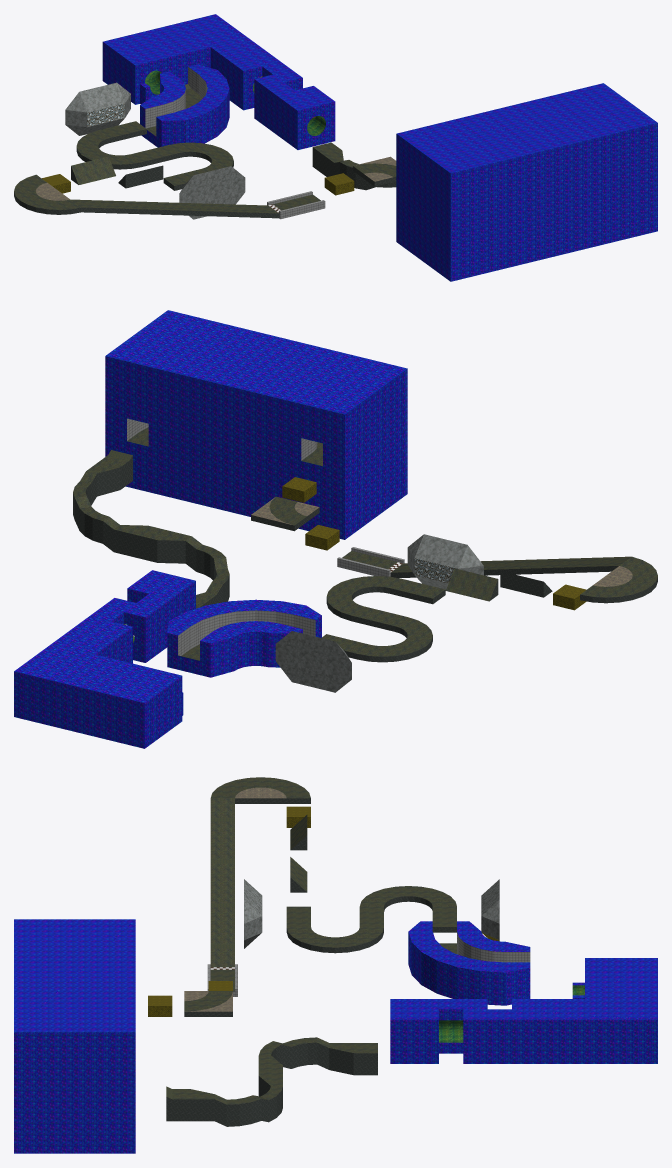
The picture shows the model from 3 angles, top to bottom: view 1: azimuth 30°, elevation 25°; view 2: azimuth 150°, elevation 25°; view 3: azimuth 270°, elevation 25°; orthographic projection. The views are drawn at different scales.
Parts seen in each view (by area): view 1: course-SKP--hideout_wall_external, course-SKP--hideout_road, course-SKP--hideout_wall_platform, course-SKP--hideout_teleport, course-SKP--hideout_wall_internal, course-SKP--hideout_slowdown, course-SKP--hideout_road_tube, course-SKP--hideout_screen, course-SKP--hideout_danger, course-SKP--hideout_boostjump; view 2: course-SKP--hideout_wall_external, course-SKP--hideout_road, course-SKP--hideout_wall_platform, course-SKP--hideout_teleport, course-SKP--hideout_wall_internal, course-SKP--hideout_danger, course-SKP--hideout_slowdown, course-SKP--hideout_boostjump, course-SKP--hideout_screen; view 3: course-SKP--hideout_wall_external, course-SKP--hideout_road, course-SKP--hideout_wall_platform, course-SKP--hideout_teleport, course-SKP--hideout_wall_internal, course-SKP--hideout_slowdown, course-SKP--hideout_boostjump, course-SKP--hideout_road_tube, course-SKP--hideout_boost.
Boxes of the visible parts, x1=… form: course-SKP--hideout_wall_external: x1=102, y1=14, x2=657, y2=281; course-SKP--hideout_road: x1=14, y1=88, x2=396, y2=213; course-SKP--hideout_wall_platform: x1=14, y1=129, x2=396, y2=218; course-SKP--hideout_teleport: x1=65, y1=82, x2=245, y2=219; course-SKP--hideout_wall_internal: x1=145, y1=67, x2=325, y2=219; course-SKP--hideout_slowdown: x1=36, y1=156, x2=396, y2=200; course-SKP--hideout_road_tube: x1=145, y1=70, x2=325, y2=135; course-SKP--hideout_screen: x1=87, y1=103, x2=124, y2=127; course-SKP--hideout_danger: x1=53, y1=76, x2=354, y2=195; course-SKP--hideout_boostjump: x1=42, y1=173, x2=353, y2=186; course-SKP--hideout_wall_external: x1=14, y1=310, x2=407, y2=748; course-SKP--hideout_road: x1=73, y1=427, x2=657, y2=660; course-SKP--hideout_wall_platform: x1=73, y1=456, x2=657, y2=662; course-SKP--hideout_teleport: x1=275, y1=534, x2=483, y2=692; course-SKP--hideout_wall_internal: x1=127, y1=418, x2=404, y2=655; course-SKP--hideout_danger: x1=282, y1=482, x2=586, y2=610; course-SKP--hideout_slowdown: x1=251, y1=497, x2=632, y2=586; course-SKP--hideout_boostjump: x1=282, y1=477, x2=586, y2=598; course-SKP--hideout_screen: x1=414, y1=558, x2=457, y2=583; course-SKP--hideout_wall_external: x1=14, y1=919, x2=657, y2=1153; course-SKP--hideout_road: x1=172, y1=777, x2=456, y2=1104; course-SKP--hideout_wall_platform: x1=166, y1=798, x2=456, y2=1126; course-SKP--hideout_teleport: x1=244, y1=879, x2=499, y2=948; course-SKP--hideout_wall_internal: x1=207, y1=932, x2=530, y2=996; course-SKP--hideout_slowdown: x1=184, y1=787, x2=286, y2=1011; course-SKP--hideout_boostjump: x1=148, y1=806, x2=310, y2=1005; course-SKP--hideout_road_tube: x1=439, y1=985, x2=584, y2=1042; course-SKP--hideout_boost: x1=166, y1=817, x2=234, y2=1098.
Bounding box in the file's own units: 112060 × 24000 × 105804.
13 materials, 13 textured.
